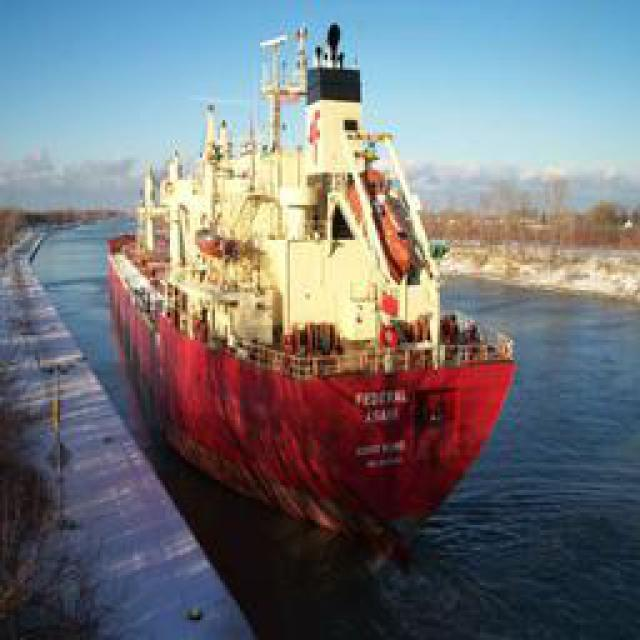Ship: (109, 20, 524, 628)
